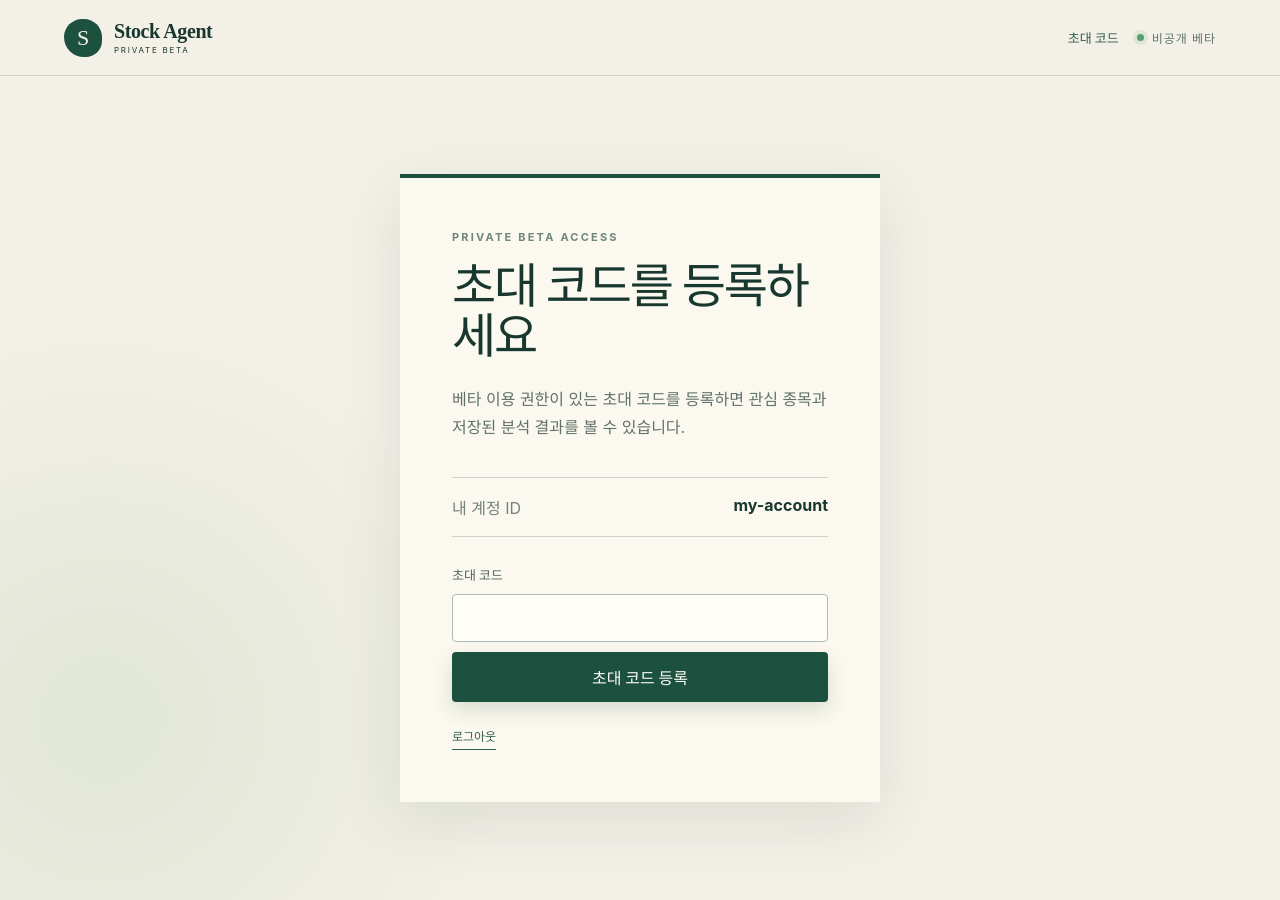
beta web routes › redeems an invitation and opens the saved-analysis service
The image size is (1280, 900).
Type "beta-code" into the field labelled "초대 코드". click: (640, 618)
box: [452,594,828,642]
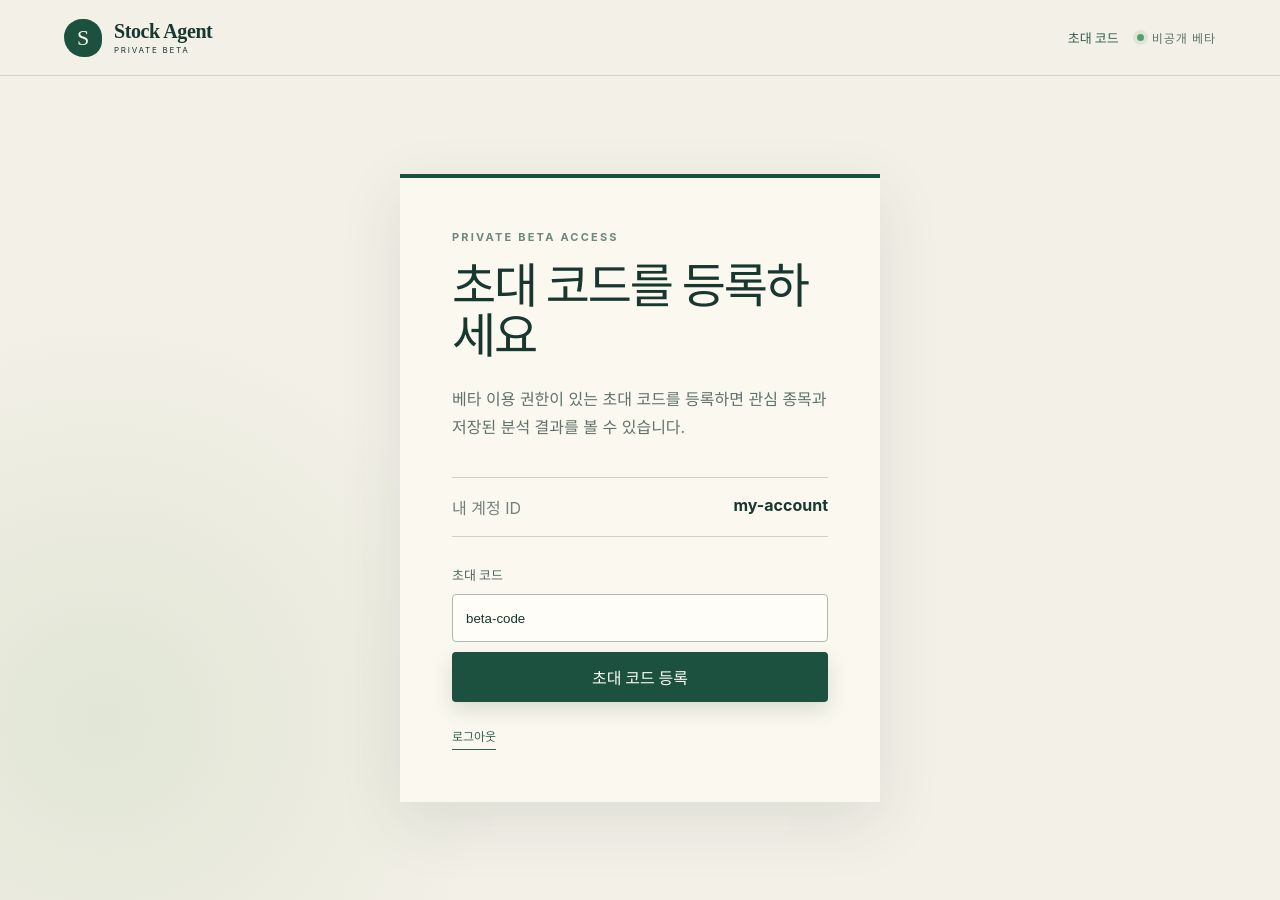
Click the button "초대 코드 등록". click: (640, 677)
box: [452,652,828,702]
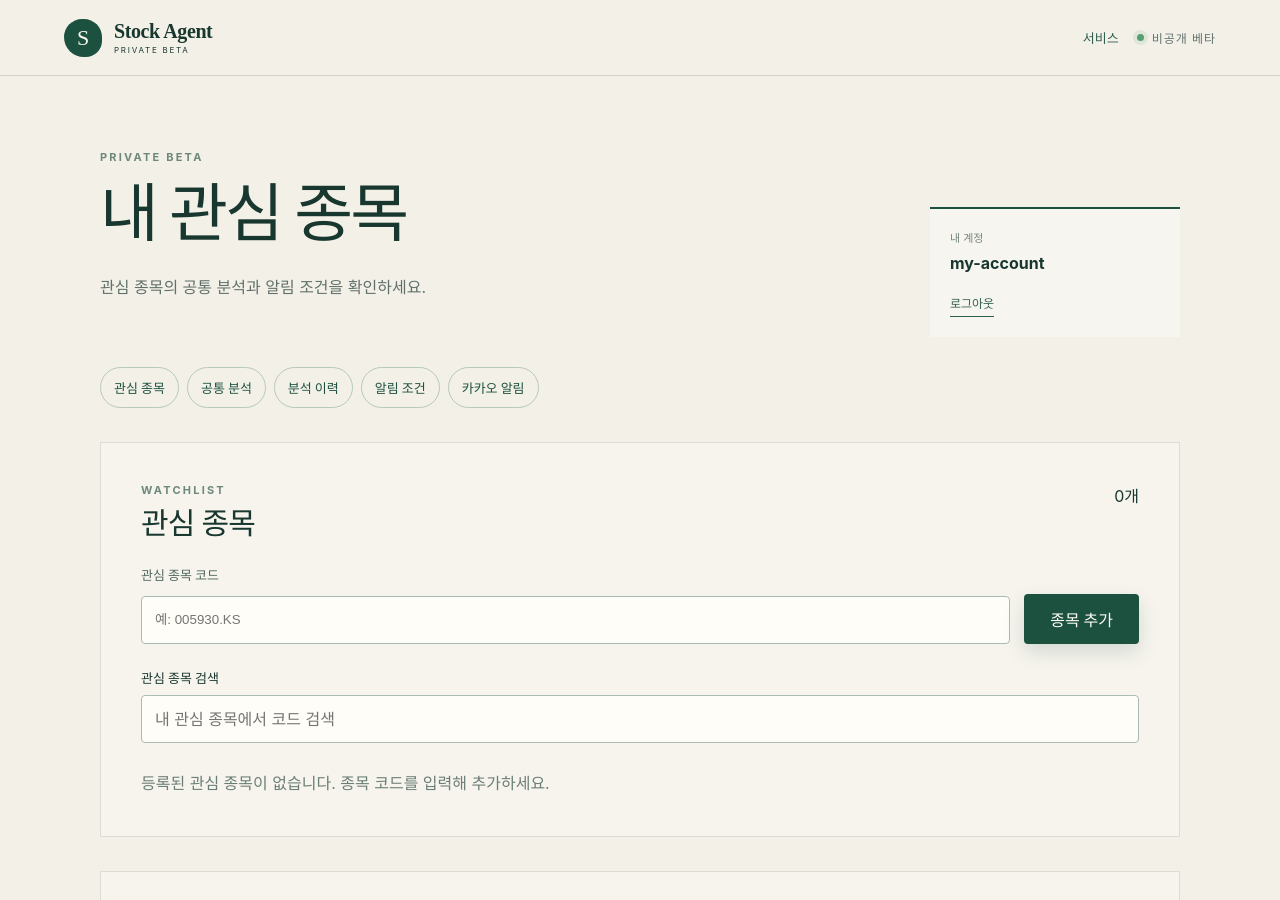
Check: the heading "내 관심 종목" is shown, box [100,179,406,250]
